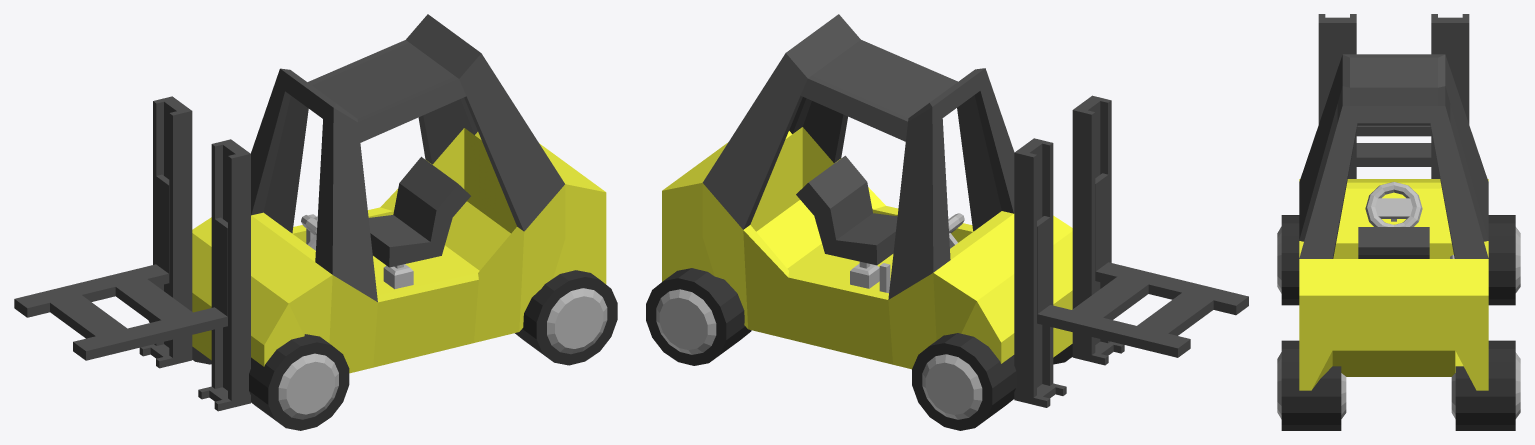
Rendered from Props_Loader.fbx.
3 views of the same model, side by side, from view 1: azimuth 30°, elevation 25°; view 2: azimuth 150°, elevation 25°; view 3: azimuth 270°, elevation 25° (orthographic). The views are drawn at different scales.
Parts seen in each view (by area): view 1: Props_Loader; view 2: Props_Loader; view 3: Props_Loader.
Boxes of the visible parts, x1,y1,x2,y2 form: Props_Loader: [14, 14, 617, 430]; Props_Loader: [646, 14, 1248, 430]; Props_Loader: [1277, 14, 1520, 430].
Size of the model in its own units: 297 by 169 by 128.
